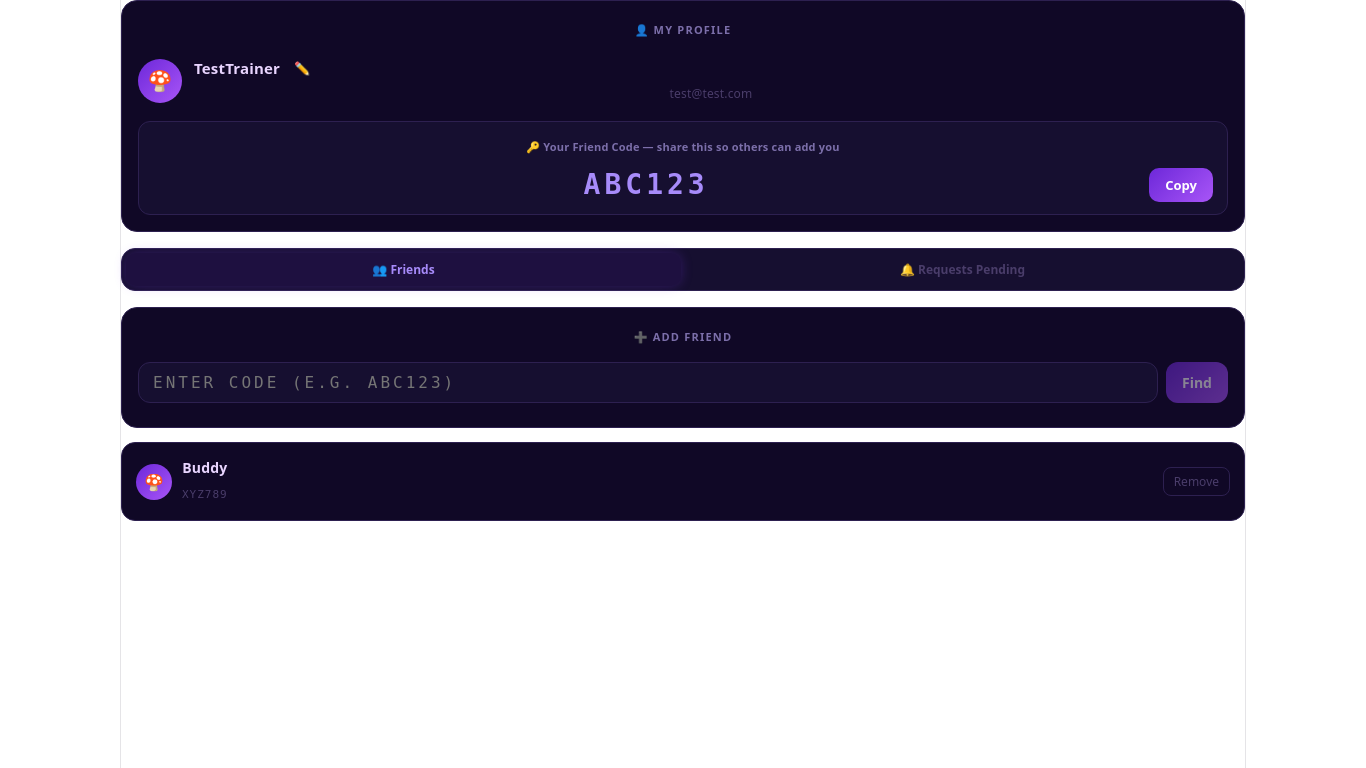
Test case: FriendsView › switches to notifications tab and shows empty state
What coordinates should you click on to do the following:
click the button "🔔 Requests Pending"
I would click on:
 (962, 270)
Its box is [685,253,1240,286].
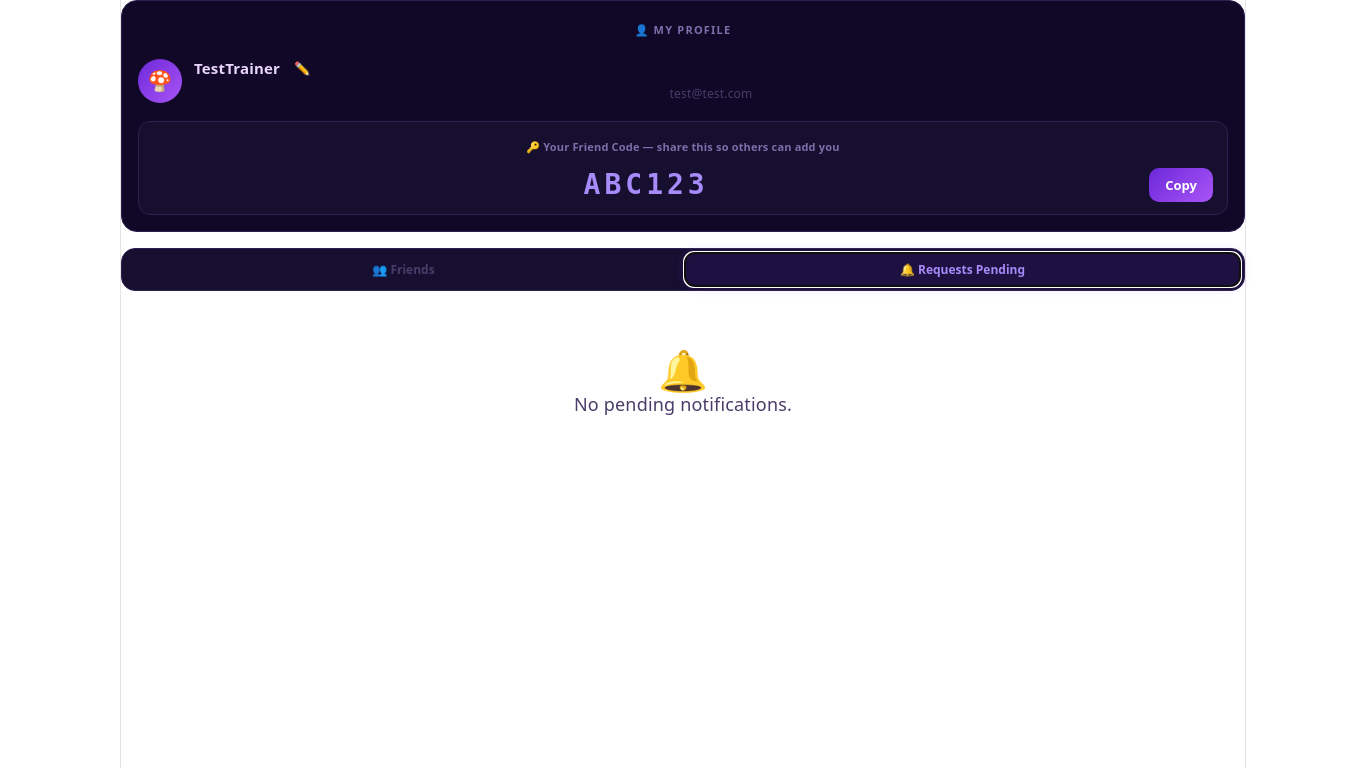
expect the text "No pending notifications." is shown: met, box [574,392,792,416]
